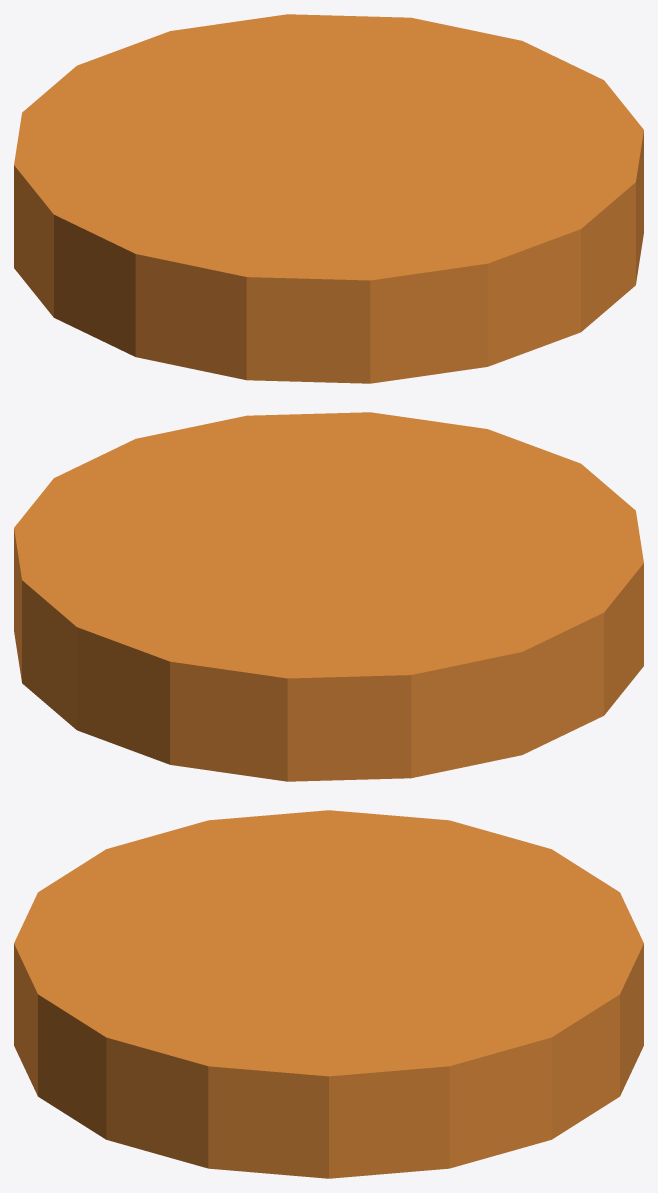
The model's file is pill_bottle_cap.fbx.
3 views of the same model, one above another, from view 1: azimuth 30°, elevation 25°; view 2: azimuth 150°, elevation 25°; view 3: azimuth 270°, elevation 25° (orthographic).
Parts seen in each view (by area): view 1: Cylinder.001; view 2: Cylinder.001; view 3: Cylinder.001.
Part boxes in pixels (x1,y1,x2,y2): Cylinder.001: [14, 14, 643, 383]; Cylinder.001: [14, 412, 643, 781]; Cylinder.001: [14, 810, 643, 1178].
Size of the model in its own units: 232 by 41.5 by 232.
